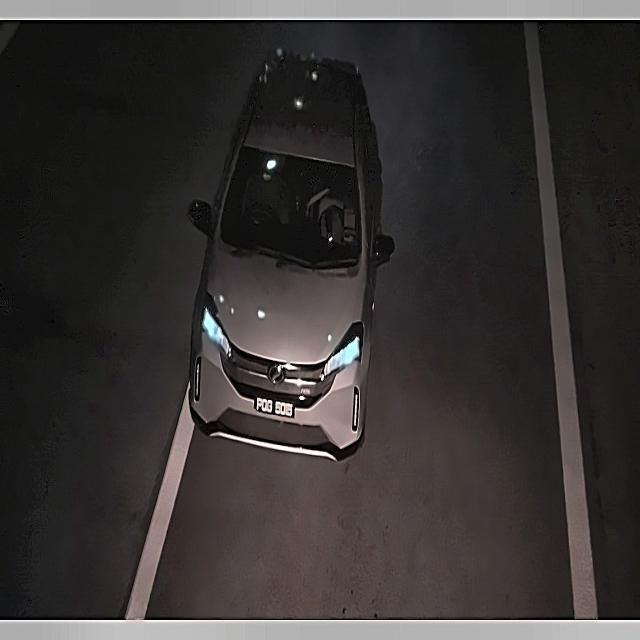car: (251, 392, 300, 423)
